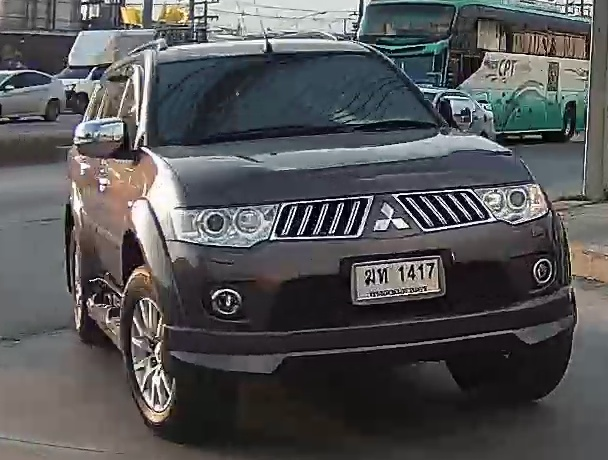1: (396, 263, 405, 282), (418, 263, 424, 280)
4: (407, 264, 416, 280)
7: (424, 261, 434, 280)
misubishi: (369, 197, 412, 237)
plate: (344, 252, 447, 306)
ฆ: (363, 268, 375, 286)
ท: (376, 266, 389, 285)
